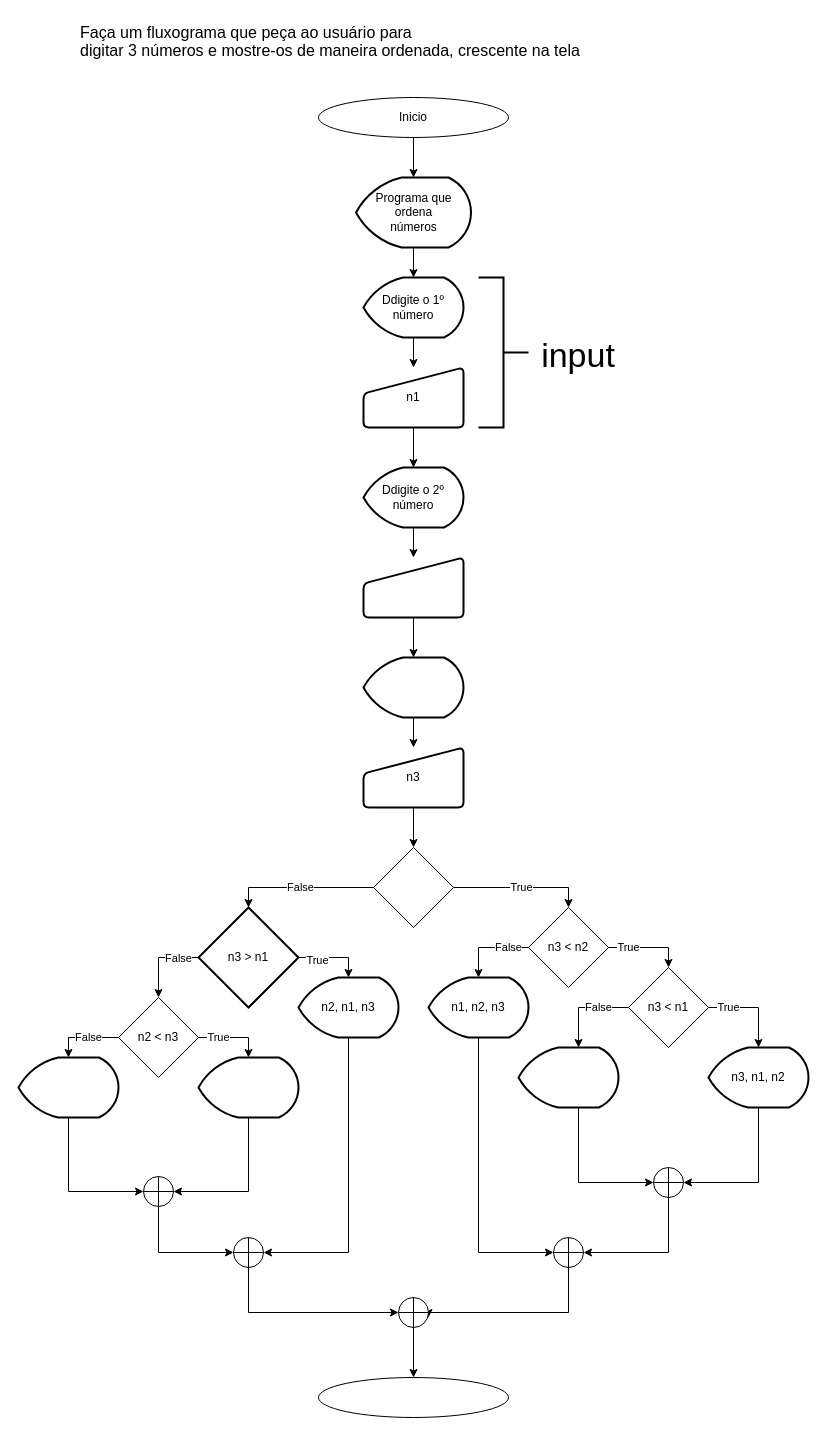
The diagram is 826 pixels wide and 1435 high, and some of its shapes have lost their labels. Each missing label, with the box of its shape:
Ddigite o 3º número: (362, 656, 464, 718)
Fim: (318, 1376, 508, 1418)
n1 < n2: (372, 846, 454, 928)
n1, n3, n2: (517, 1046, 619, 1108)
n2: (362, 556, 464, 618)
n2, n3, n1: (197, 1056, 299, 1118)
n3, n2, n1: (17, 1056, 119, 1118)
